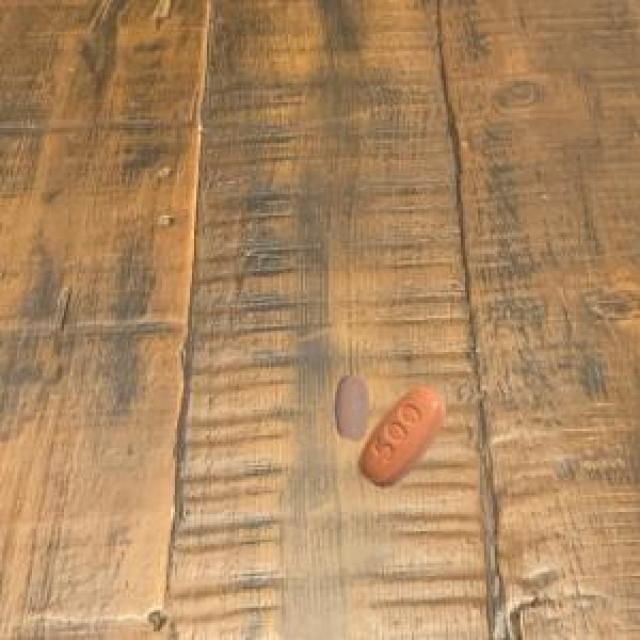Biogesic: (318, 364, 460, 498)
